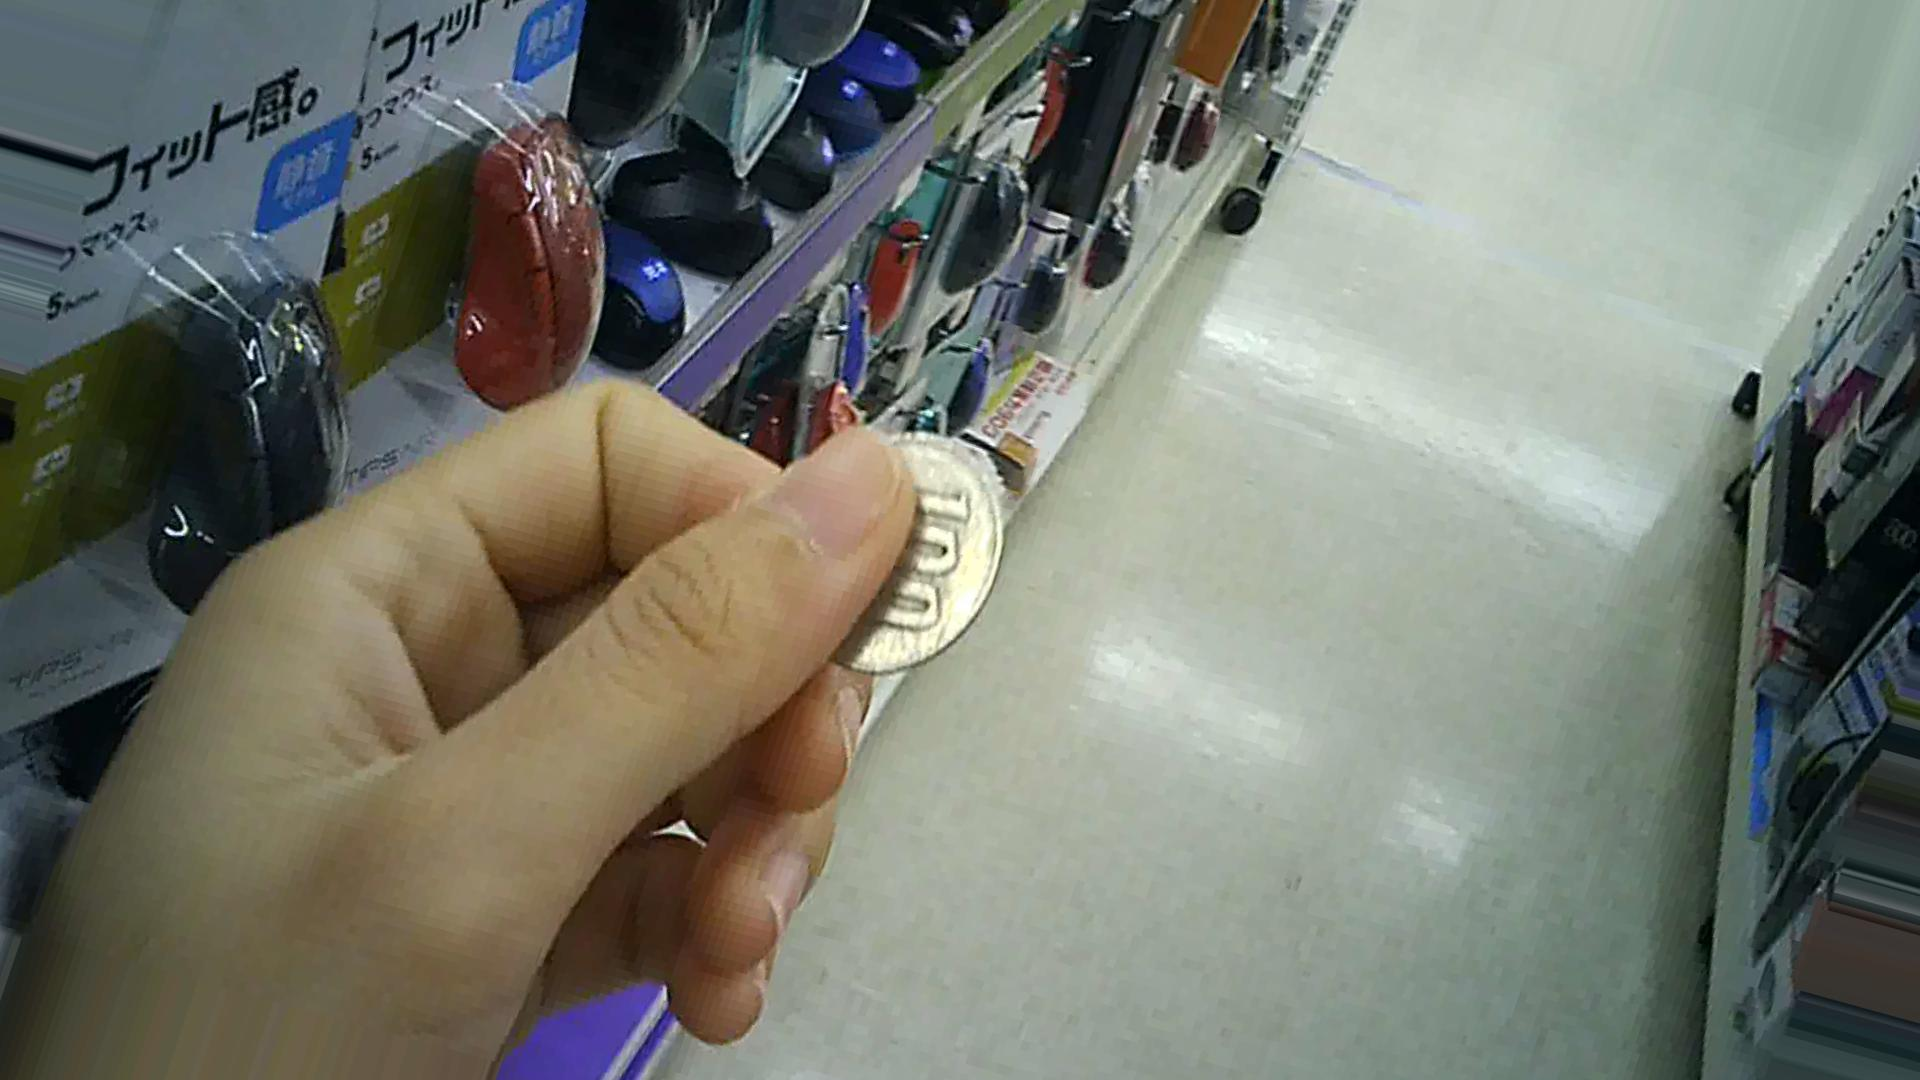100 Yen: (806, 427, 1046, 694)
